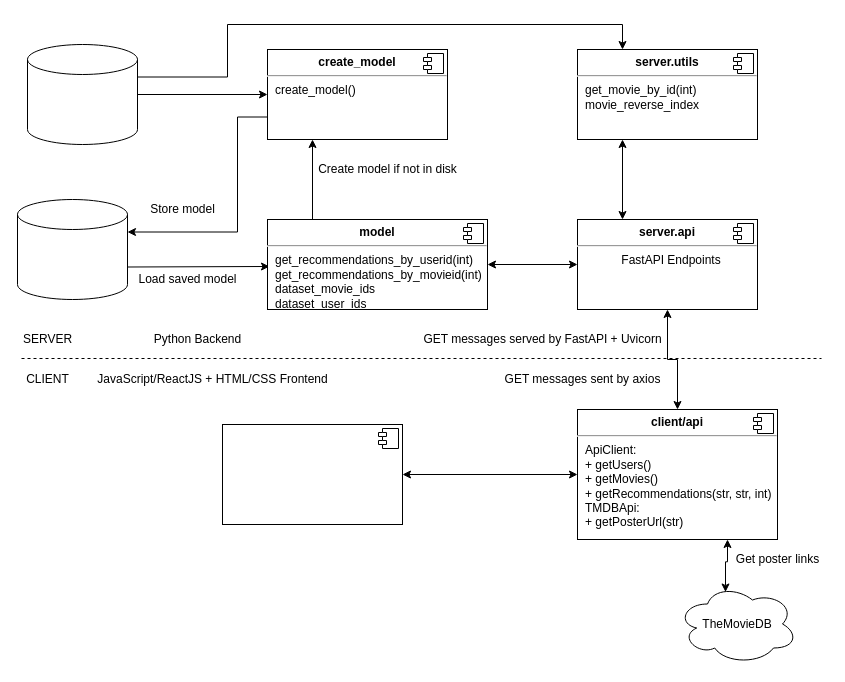
This 845x682 diagram has some shape labels left out. The shapes that lost their labels are listed below. From the top down, each one's box as (x1, y1, x2, y2) in pixels, then its label:
(26, 44, 138, 144): MovieLens Dataset IMDb Dataset
(16, 198, 128, 300): Saved Trained Model
(222, 424, 402, 524): client/App User Interface
